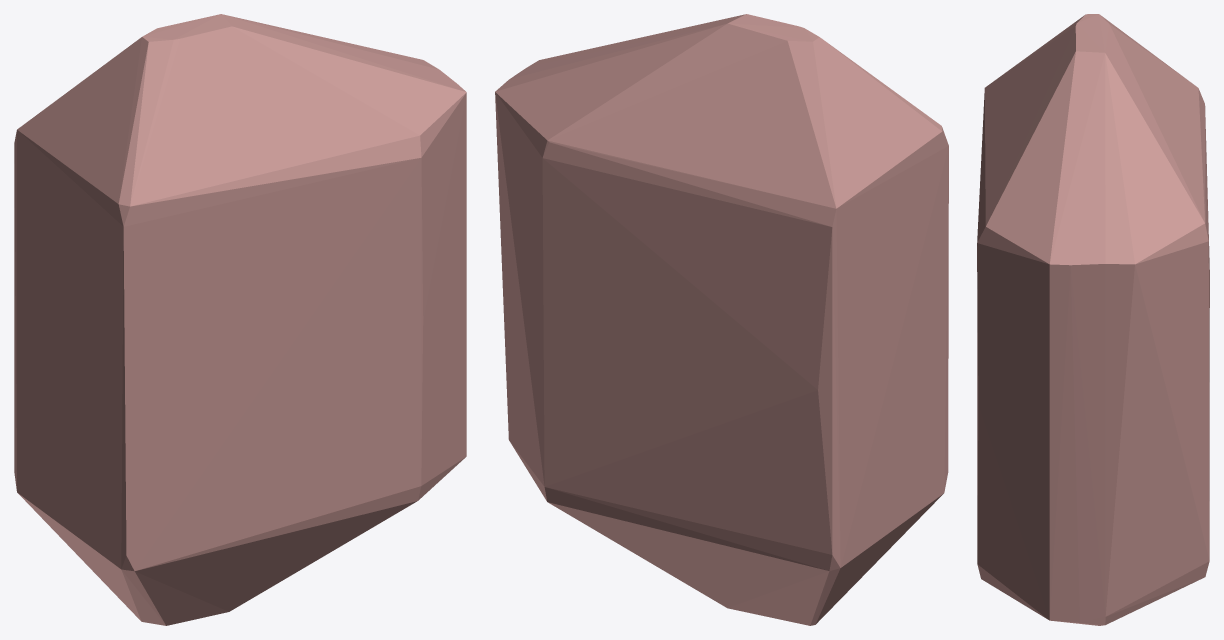
The model's file is consumable_fuse_relay_a01.glb.
3 views of the same model, side by side, from view 1: azimuth 30°, elevation 25°; view 2: azimuth 150°, elevation 25°; view 3: azimuth 270°, elevation 25° (orthographic). The views are drawn at different scales.
Parts seen in each view (by area): view 1: geometry_0; view 2: geometry_0; view 3: geometry_0.
Boxes of the visible parts, bbox=[...] form: geometry_0: bbox=[14, 14, 466, 625]; geometry_0: bbox=[495, 14, 948, 625]; geometry_0: bbox=[977, 14, 1209, 625].
Size of the model in its own units: 0.3246 by 0.4799 by 0.1768.
